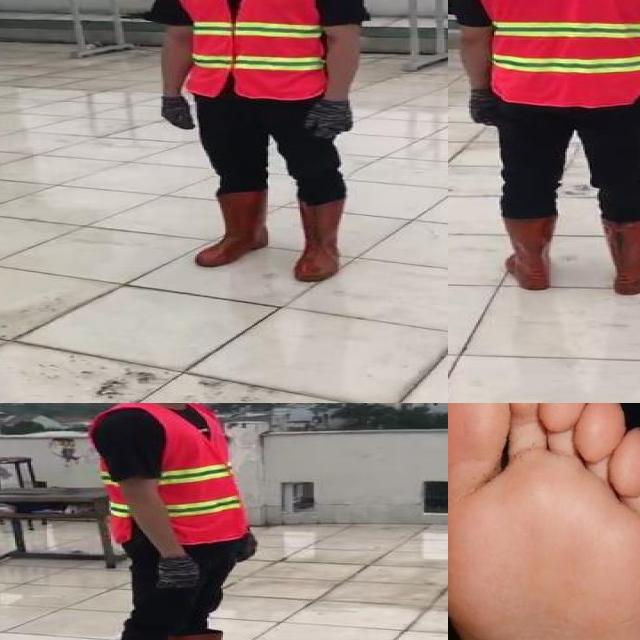Barefoots: (448, 403, 640, 640)
boots: (194, 190, 272, 269), (494, 216, 560, 289), (290, 199, 346, 282), (597, 215, 640, 294)
hand_glove: (302, 99, 360, 141), (154, 556, 207, 593), (465, 91, 503, 128), (158, 97, 193, 132)
person: (146, 0, 380, 287), (448, 0, 640, 299), (73, 403, 276, 640)
vest: (89, 403, 246, 546), (474, 0, 640, 107), (171, 0, 328, 99)
